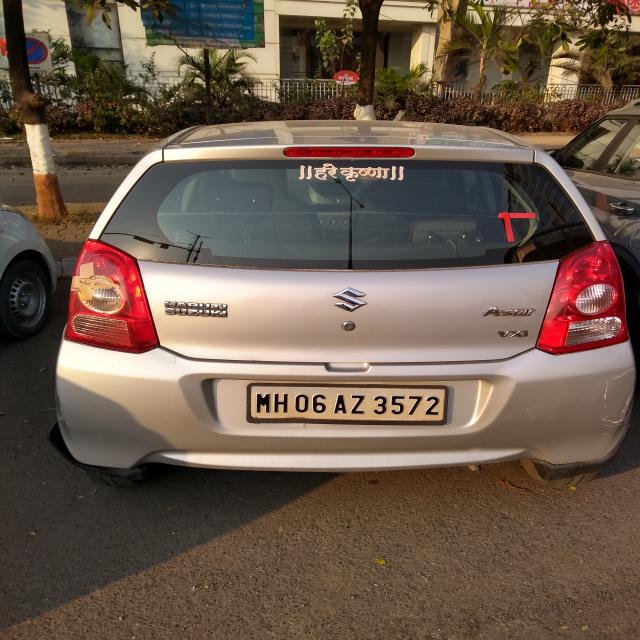Number-Plate: (248, 387, 447, 425)
